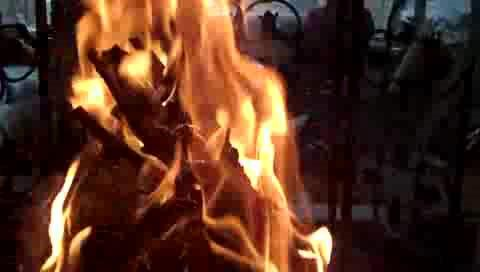fire: (50, 2, 317, 267)
